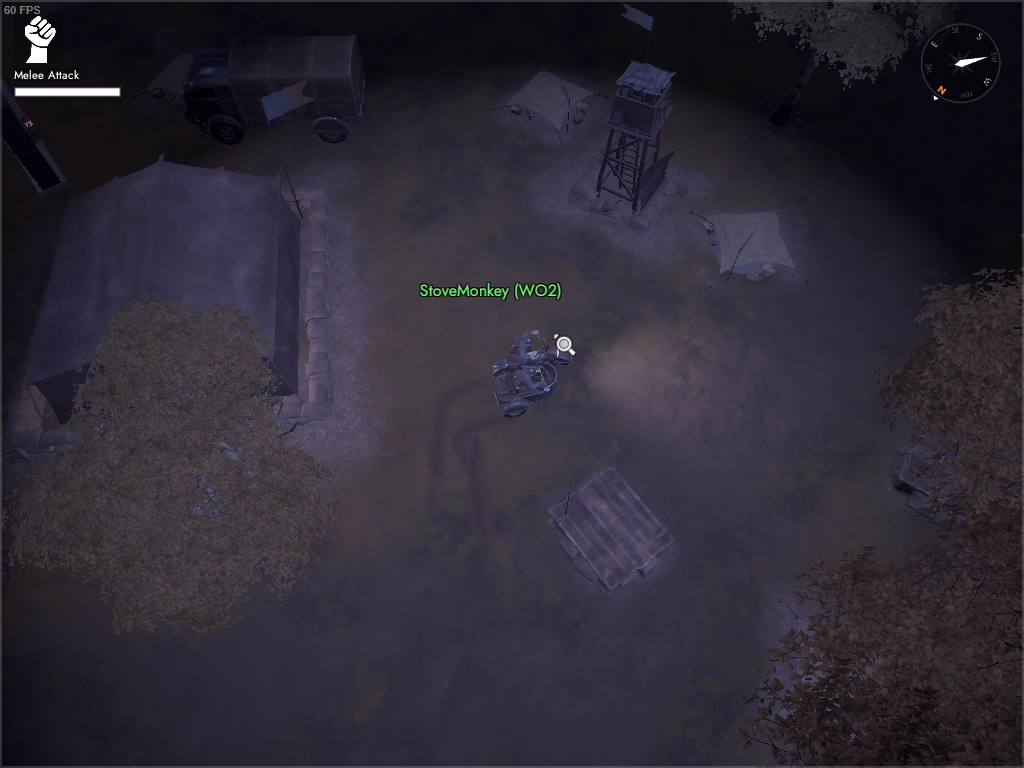foxhole: (684, 198, 816, 300), (481, 61, 617, 154), (125, 50, 207, 123)
motorcycle: (486, 322, 577, 422)
pillbox: (539, 458, 681, 604), (881, 410, 994, 533)
player: (503, 327, 557, 370), (509, 365, 553, 398)
raised_gate: (1, 82, 72, 196)
truck: (179, 31, 373, 147)
watchtower: (560, 5, 689, 239)
